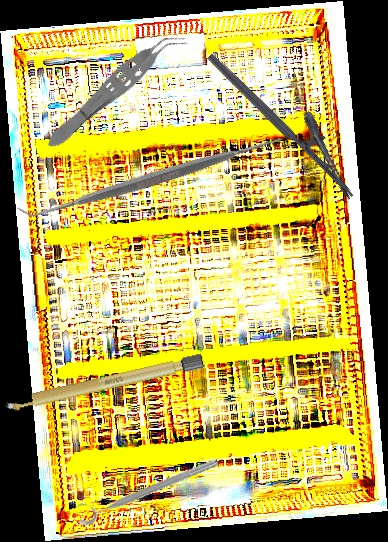Fixation Ring: (71, 446, 221, 529)
Needle Holder: (206, 33, 374, 201)
Scalpel Handle: (0, 351, 207, 415)
Spatula Surgical: (16, 38, 294, 317)
Tissue Forceps: (40, 21, 190, 157)
